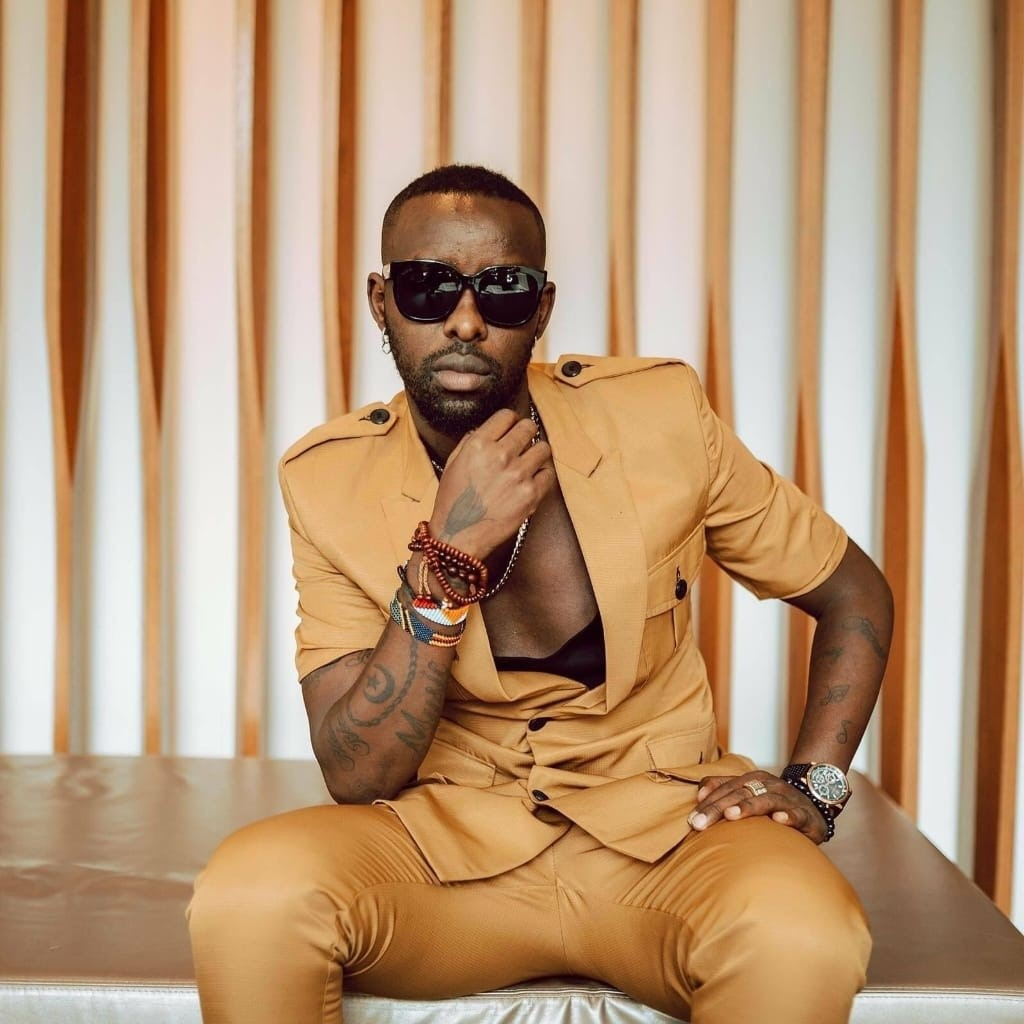face_no_mask: (378, 178, 553, 428)
